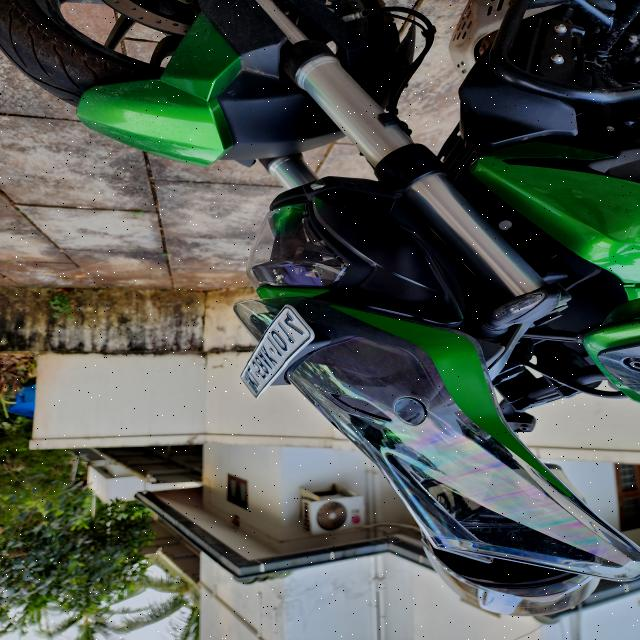headlight: (246, 200, 349, 291)
